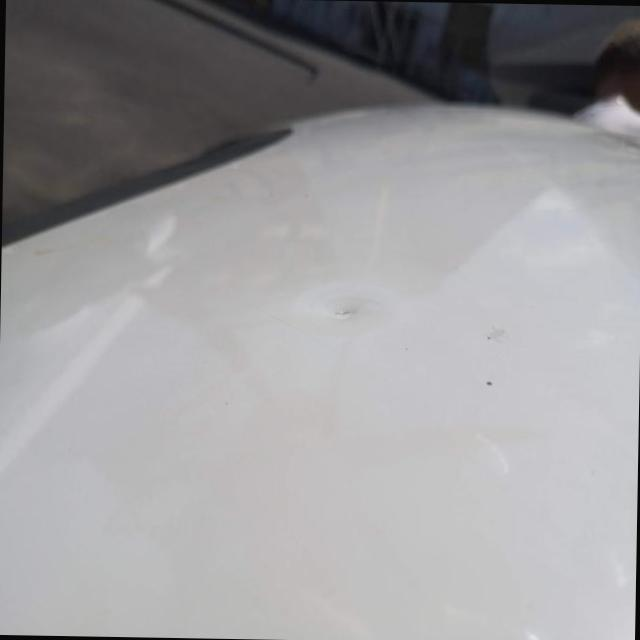dent: (278, 264, 412, 349)
